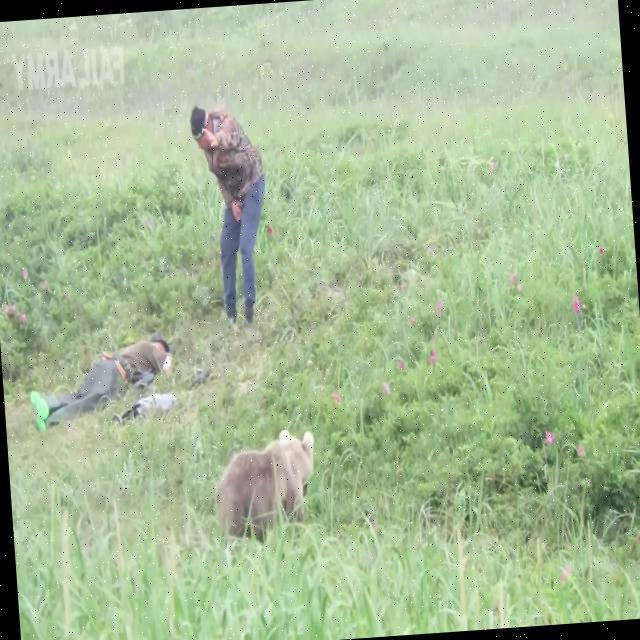person: (193, 100, 278, 324), (28, 334, 177, 434)
